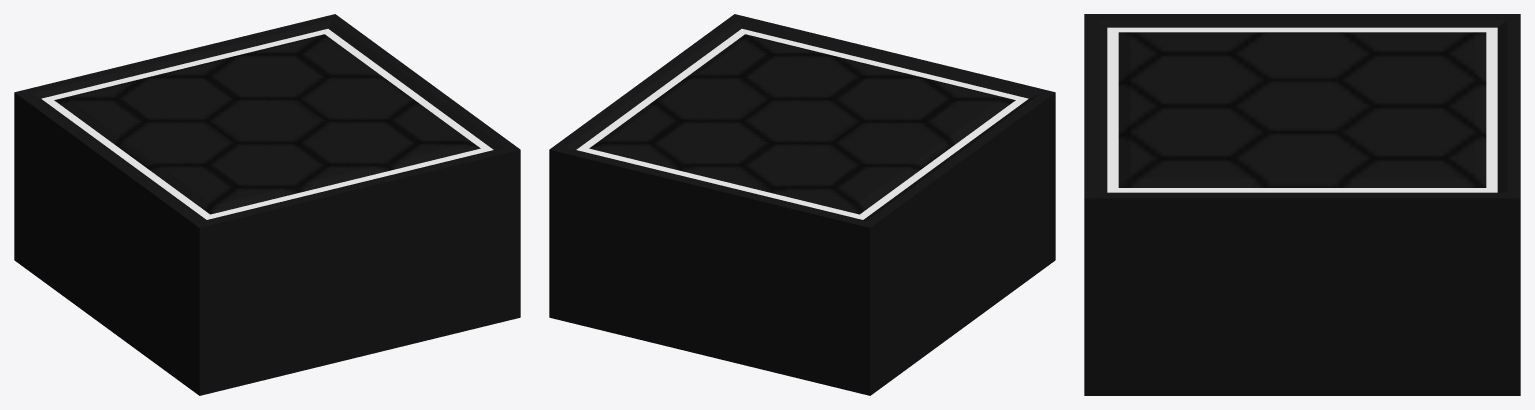
The model's file is Tile 1E2.fbx.
3 views of the same model, side by side, from view 1: azimuth 30°, elevation 25°; view 2: azimuth 150°, elevation 25°; view 3: azimuth 270°, elevation 25° (orthographic). The views are drawn at different scales.
Parts seen in each view (by area): view 1: pCube136; view 2: pCube136; view 3: pCube136.
Part boxes in pixels (bbox=[...]): pCube136: bbox=[14, 14, 520, 395]; pCube136: bbox=[549, 14, 1055, 395]; pCube136: bbox=[1084, 14, 1520, 395].
Bounding box in the file's own units: 2 × 1 × 2.
